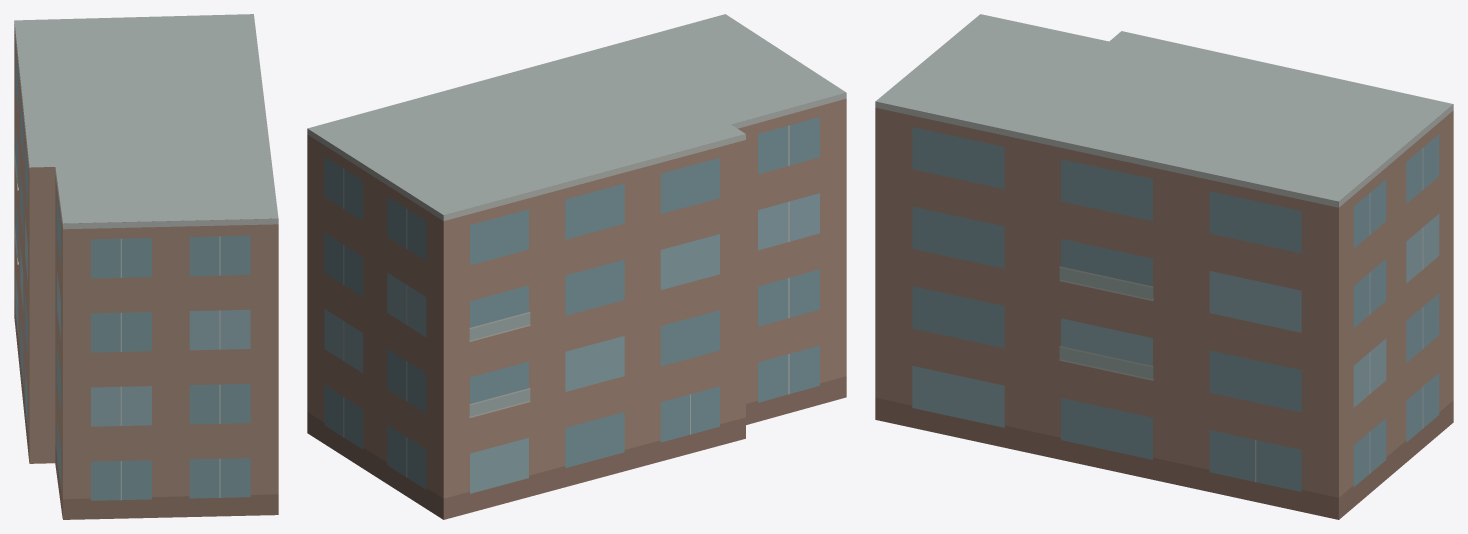
Rendered from survey-upis-32946968.glb.
The picture shows the model from 3 angles, left to right: view 1: azimuth 30°, elevation 25°; view 2: azimuth 150°, elevation 25°; view 3: azimuth 270°, elevation 25°; orthographic projection. The views are drawn at different scales.
Parts seen in each view (by area): view 1: survey-upis-32946968.tmp; view 2: survey-upis-32946968.tmp; view 3: survey-upis-32946968.tmp.
Part boxes in pixels (x1=…): survey-upis-32946968.tmp: x1=14, y1=14, x2=278, y2=519; survey-upis-32946968.tmp: x1=307, y1=14, x2=846, y2=519; survey-upis-32946968.tmp: x1=875, y1=14, x2=1453, y2=519.
Bounding box in the file's own units: 15.8 × 12.5 × 20.58.
